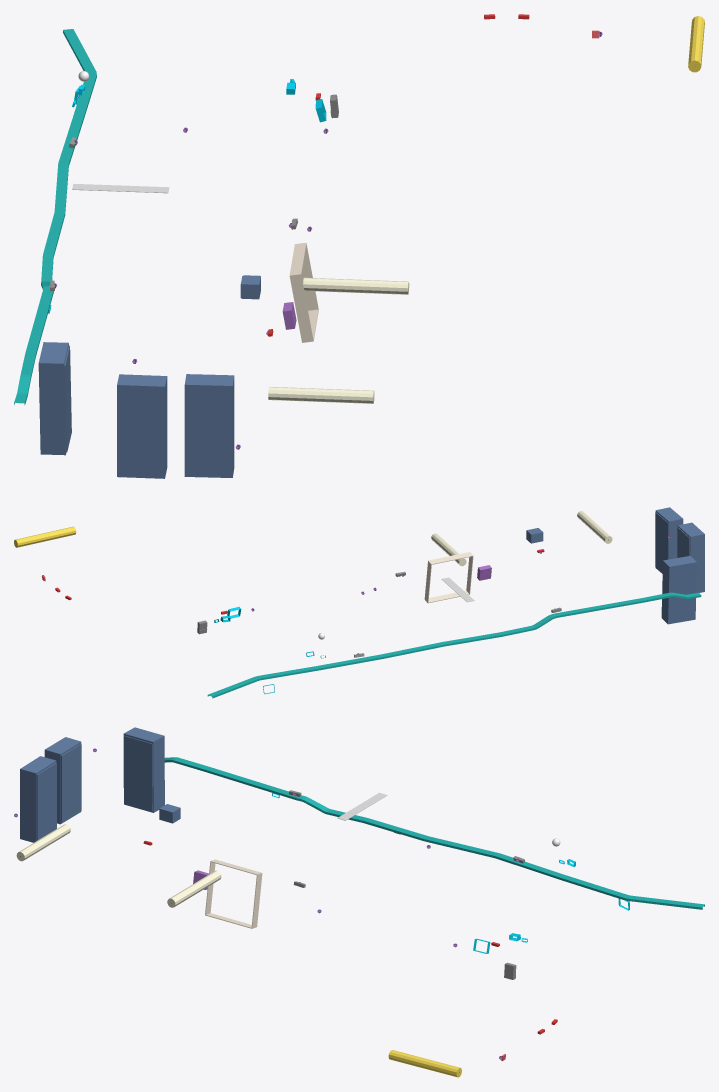
The model's file is tile_288.glb.
3 views of the same model, one above another, from view 1: azimuth 30°, elevation 25°; view 2: azimuth 150°, elevation 25°; view 3: azimuth 270°, elevation 25° (orthographic). The views are drawn at different scales.
Bounding box in the file's own units: 19.29 × 2.13 × 16.96.
